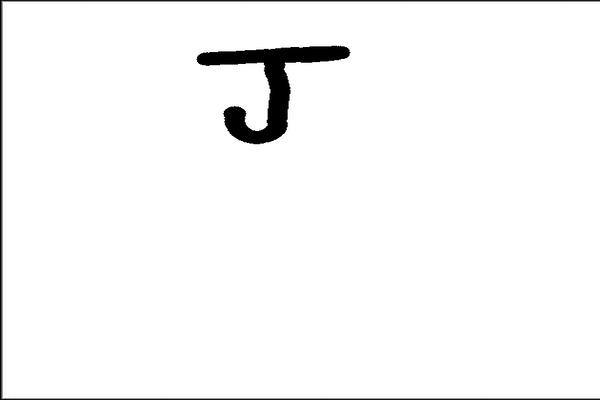J: (191, 35, 354, 150)
